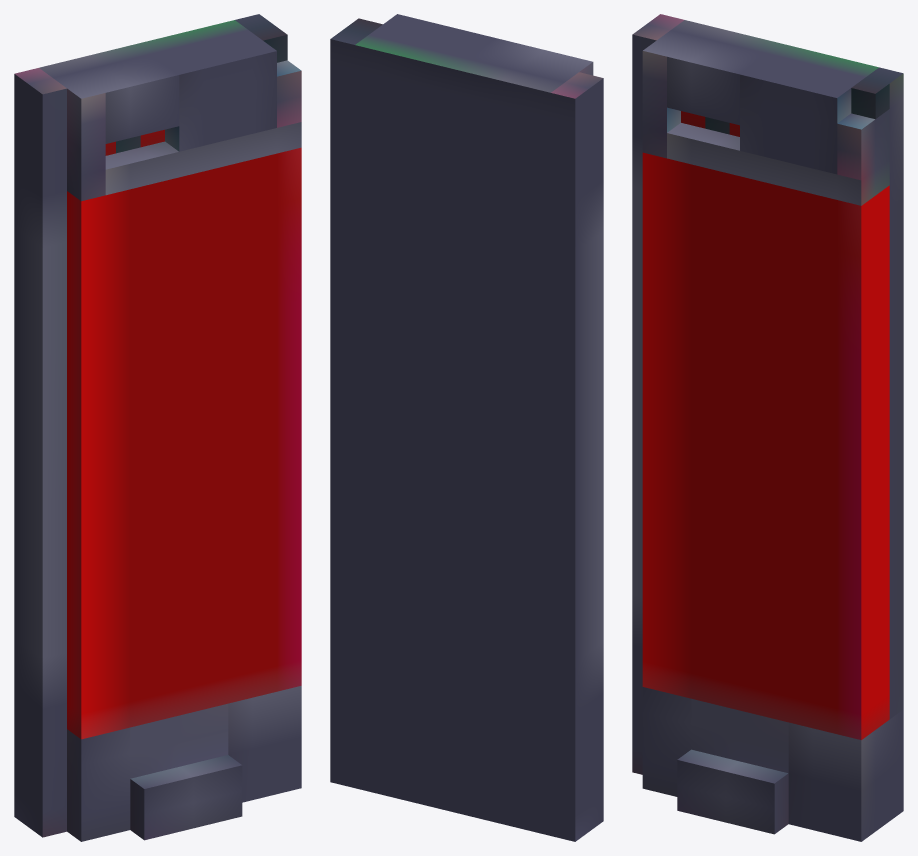
The model's file is Screen_D_00.fbx.
The picture shows the model from 3 angles, left to right: view 1: azimuth 30°, elevation 25°; view 2: azimuth 150°, elevation 25°; view 3: azimuth 330°, elevation 25°; orthographic projection.
Parts seen in each view (by area): view 1: Screen_D_00; view 2: Screen_D_00; view 3: Screen_D_00.
Boxes of the visible parts, x1,y1,x2,y2 form: Screen_D_00: (14,14,301,841); Screen_D_00: (330,14,603,841); Screen_D_00: (632,14,903,841).
Size of the model in its own units: 50 by 145 by 20.
